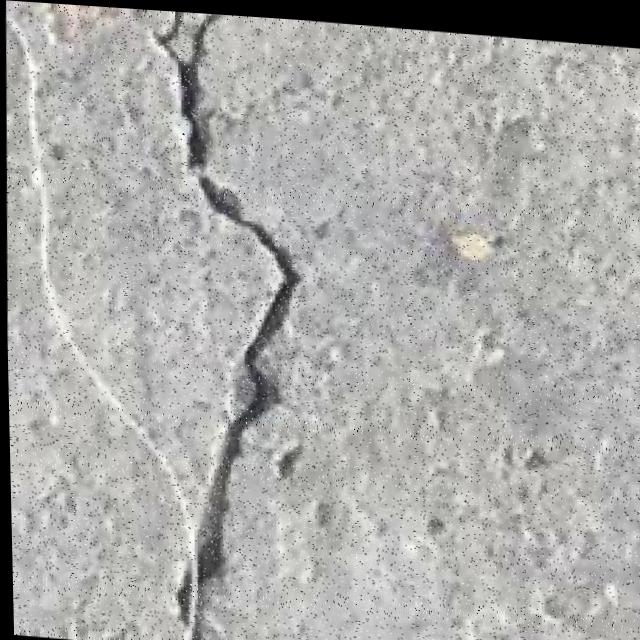Crack: (139, 7, 329, 640)
